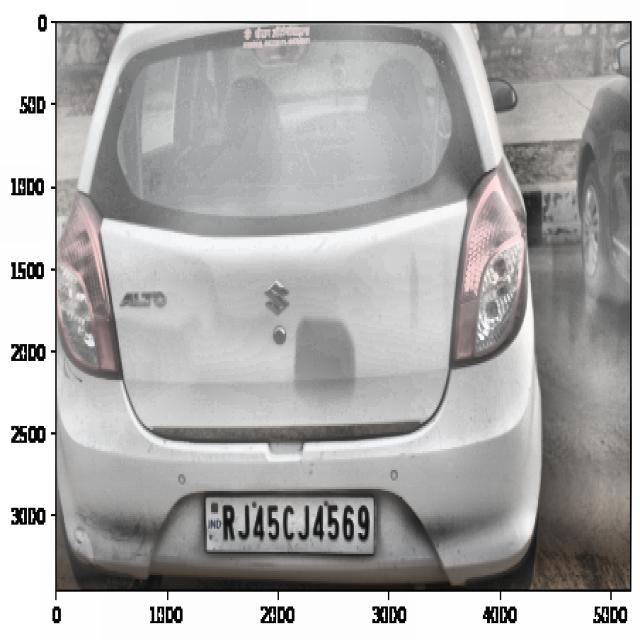license_plate: (216, 494, 375, 551)
